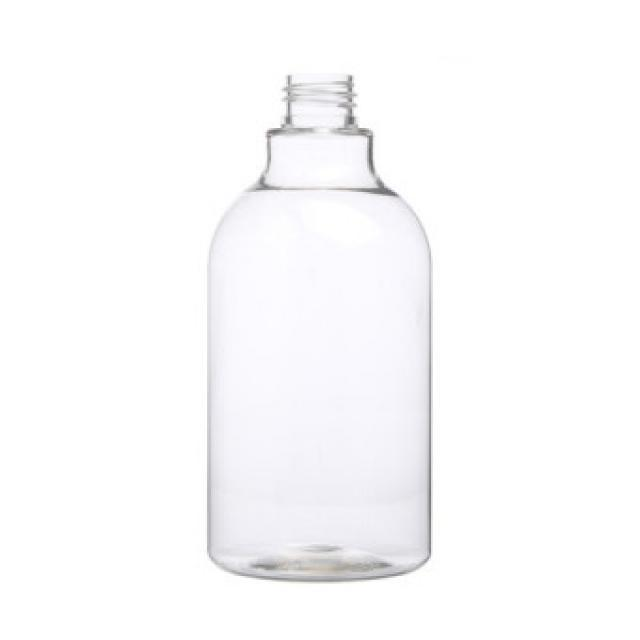plastic bottle: (205, 73, 435, 580)
